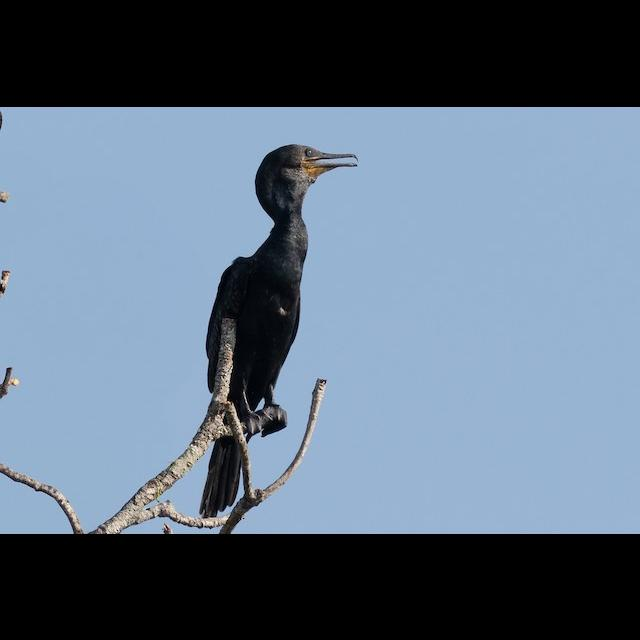cormorant: (188, 135, 364, 513)
